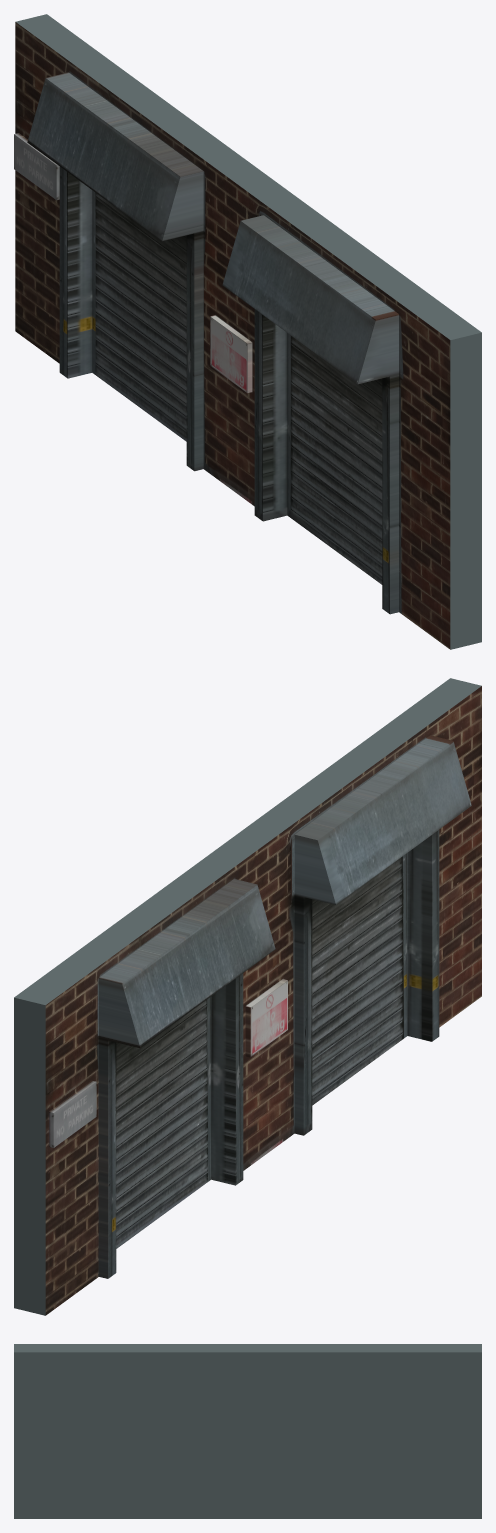
Rendered from bas_facade7.fbx.
3 views of the same model, one above another, from view 1: azimuth 30°, elevation 25°; view 2: azimuth 150°, elevation 25°; view 3: azimuth 270°, elevation 25° (orthographic). The views are drawn at different scales.
Visible parts, largest first — view 1: bas_facade7.002; view 2: bas_facade7.002; view 3: bas_facade7.002.
Part boxes in pixels (left/top/right/bottom): bas_facade7.002: left=14, top=14, right=481, bottom=649; bas_facade7.002: left=14, top=678, right=481, bottom=1315; bas_facade7.002: left=14, top=1344, right=481, bottom=1518.
Size of the model in its own units: 2.98 by 12.11 by 30.85.
2 materials, 2 textured.
